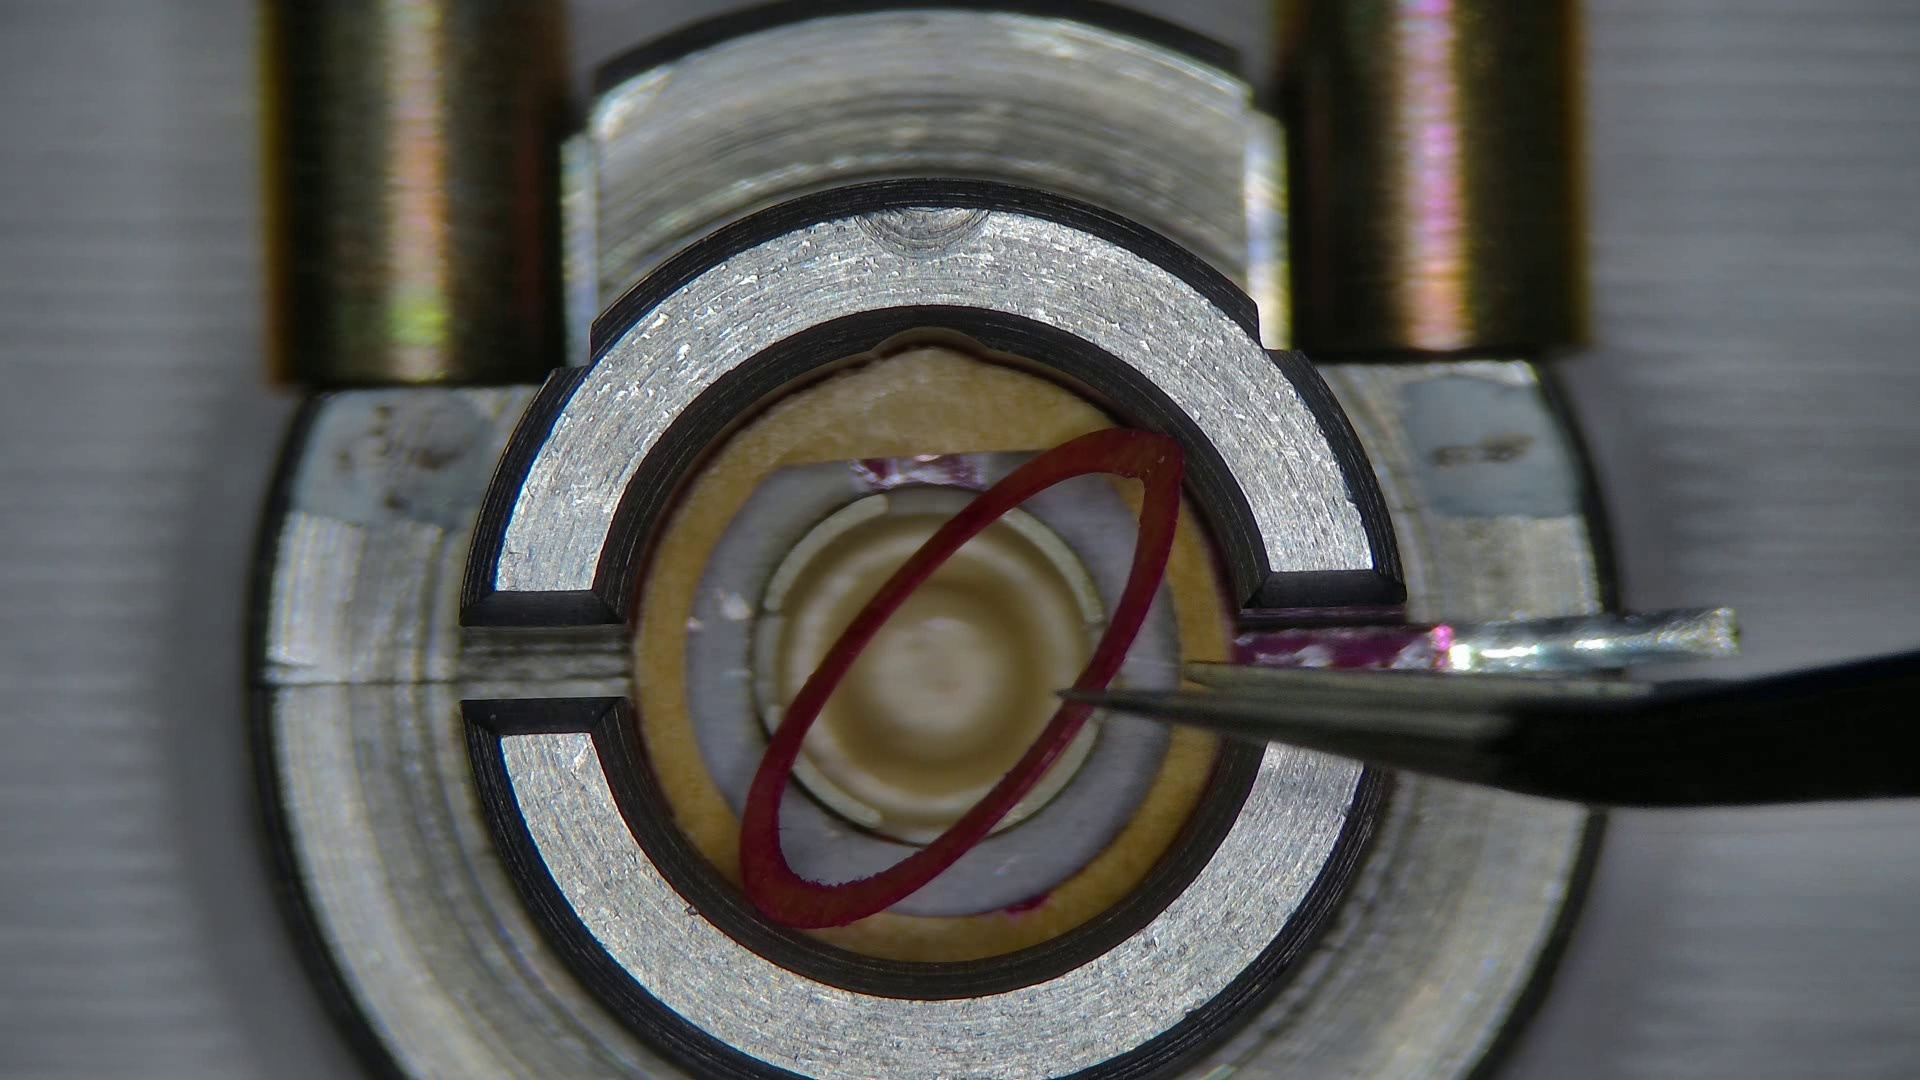YellowOring: (687, 456, 1017, 818), (903, 717, 1160, 916), (1021, 465, 1138, 622), (775, 775, 926, 885), (1116, 589, 1176, 694), (795, 748, 800, 764)
redOring: (637, 349, 1105, 877), (844, 723, 1218, 961), (1164, 520, 1228, 671), (1114, 477, 1145, 506)
